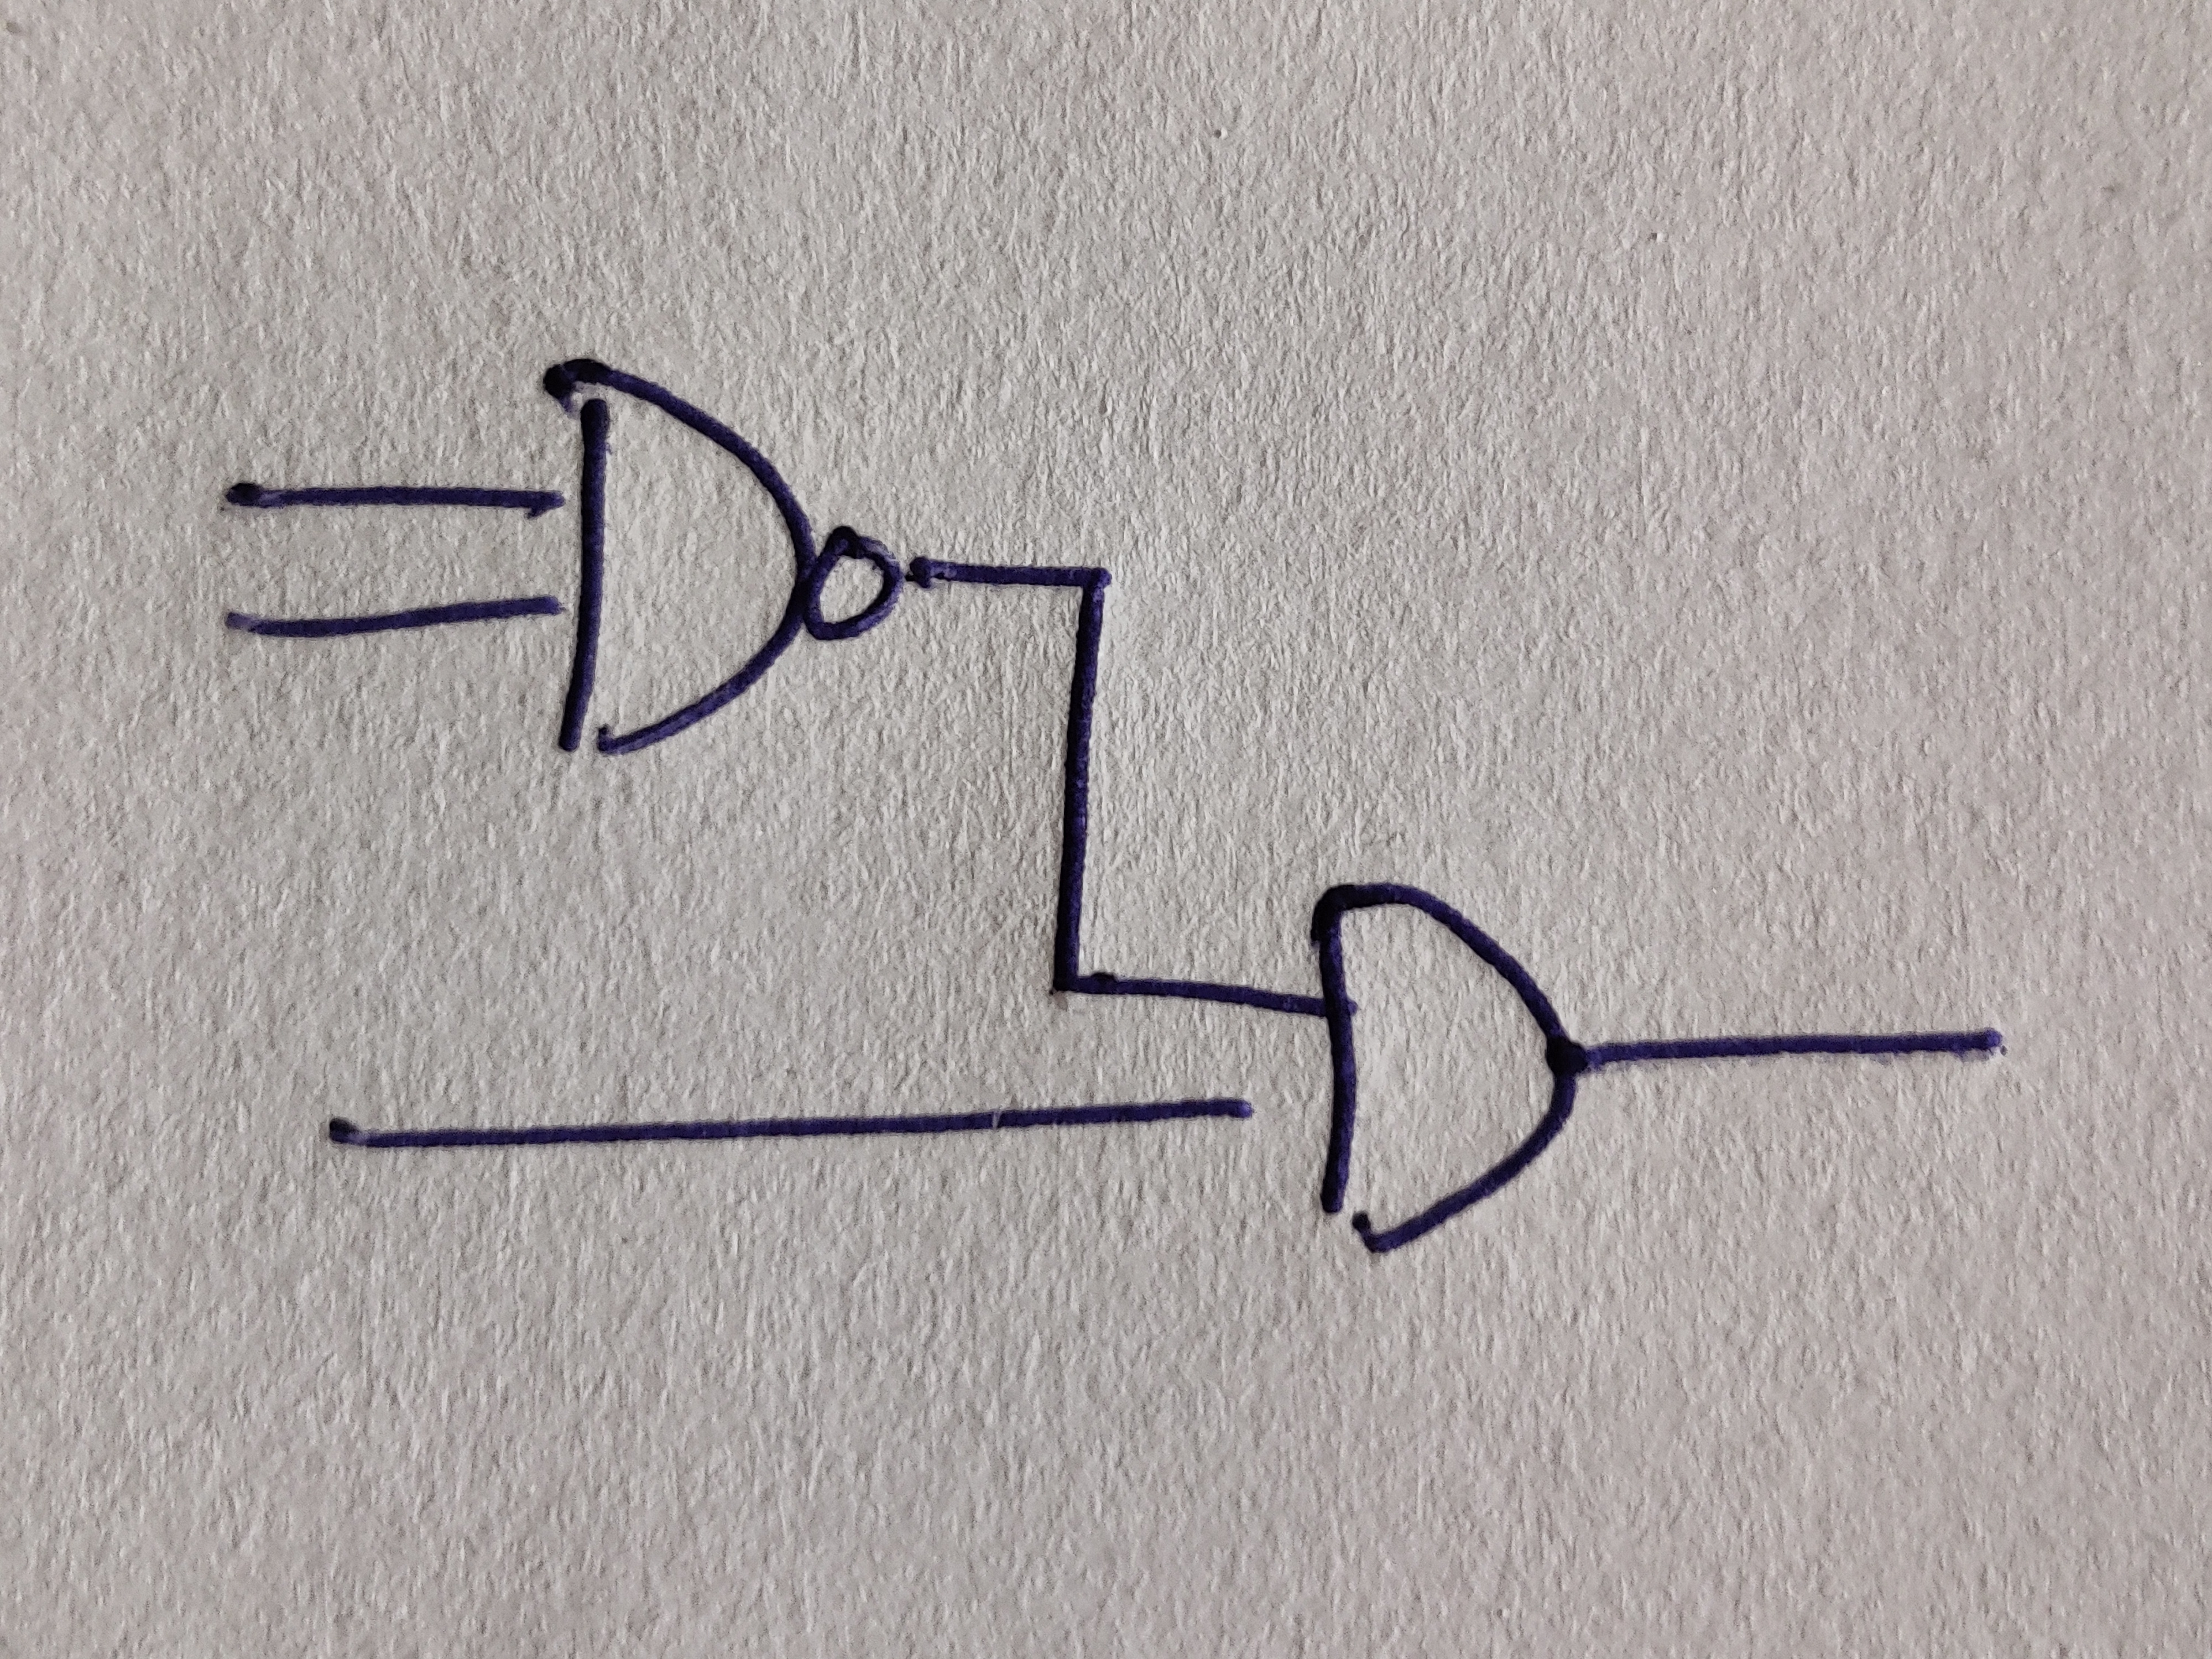and: (542, 357, 820, 758), (1312, 882, 1578, 1253)
not: (812, 526, 904, 643)
